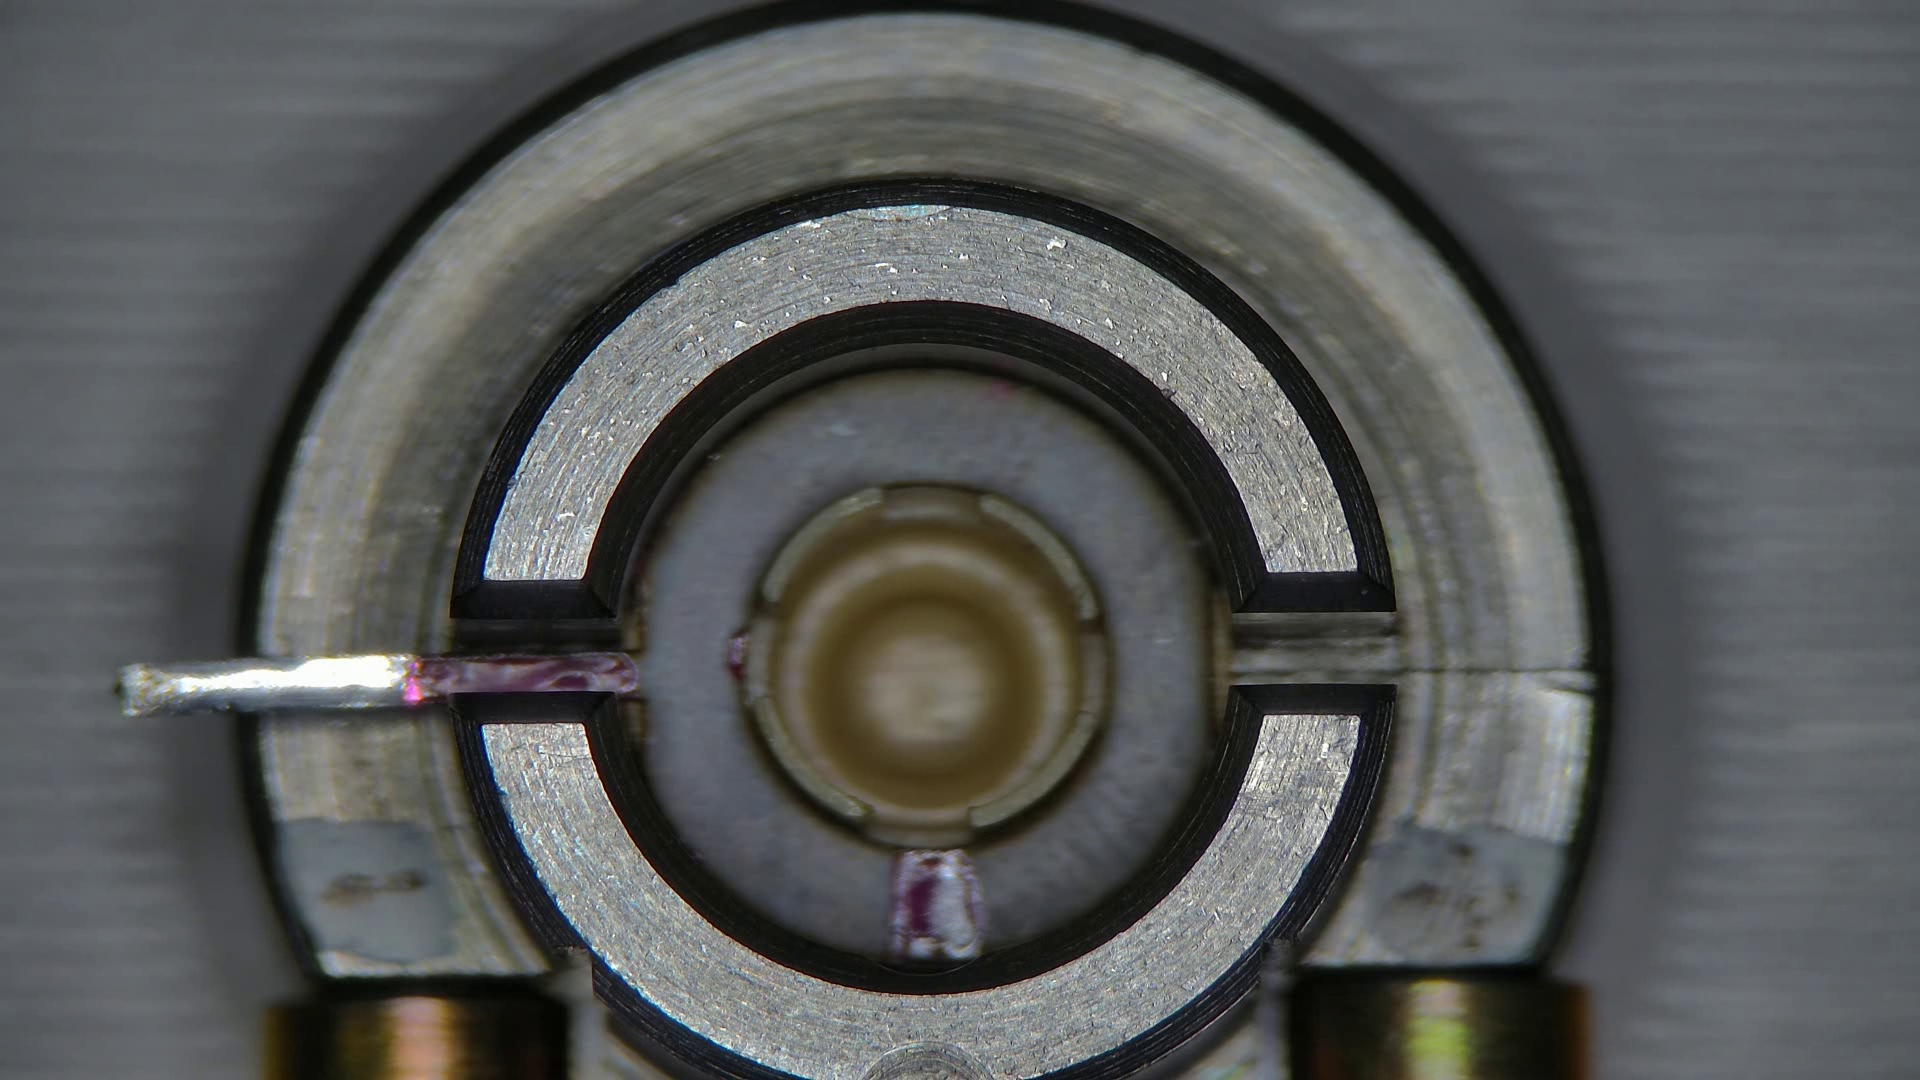YellowOring: (641, 371, 1209, 963)
